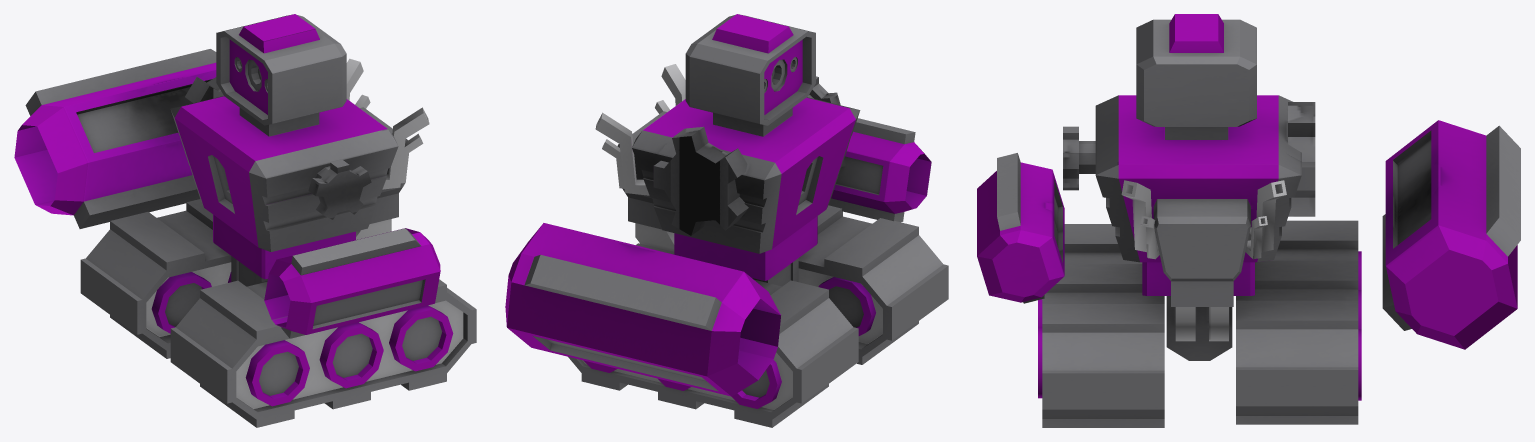
The model's file is Enemy2_Die10.obj.
3 renders of one model, left to right at view 1: azimuth 30°, elevation 25°; view 2: azimuth 150°, elevation 25°; view 3: azimuth 270°, elevation 25°, orthographic. The views are drawn at different scales.
Parts seen in each view (by area): view 1: Object006, Object013, Object011, Object014, Object012, Object010, Object008, Object009; view 2: Object011, Object006, Object013, Object012, Object014, Object009, Object010; view 3: Object006, Object011, Object013, Object012, Object010, Object014, Object009, Object008.
Part boxes in pixels (x1,y1,x2,y2): Object006: [80, 199, 476, 427]; Object013: [170, 96, 398, 286]; Object011: [14, 49, 216, 228]; Object014: [264, 228, 440, 338]; Object012: [216, 14, 346, 136]; Object010: [346, 58, 429, 239]; Object008: [308, 159, 371, 219]; Object009: [185, 77, 223, 102]; Object011: [505, 223, 780, 396]; Object006: [568, 205, 948, 427]; Object013: [632, 97, 860, 286]; Object012: [685, 14, 815, 136]; Object014: [828, 118, 931, 222]; Object009: [653, 126, 748, 235]; Object010: [595, 64, 685, 251]; Object006: [1038, 220, 1361, 427]; Object011: [1382, 120, 1520, 349]; Object013: [1095, 95, 1301, 360]; Object012: [1136, 14, 1256, 139]; Object010: [1121, 180, 1286, 341]; Object014: [977, 153, 1064, 303]; Object009: [1288, 102, 1315, 216]; Object008: [1063, 126, 1095, 190].
Bounding box in the file's own units: 87.45 × 108 × 153.
